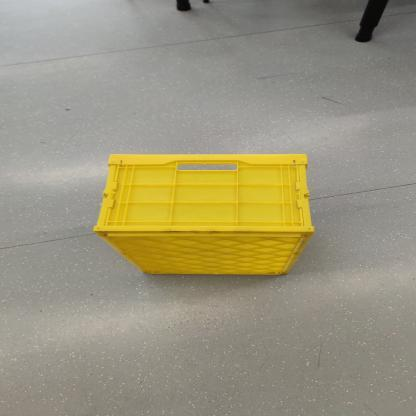-: (62, 141, 374, 299)
